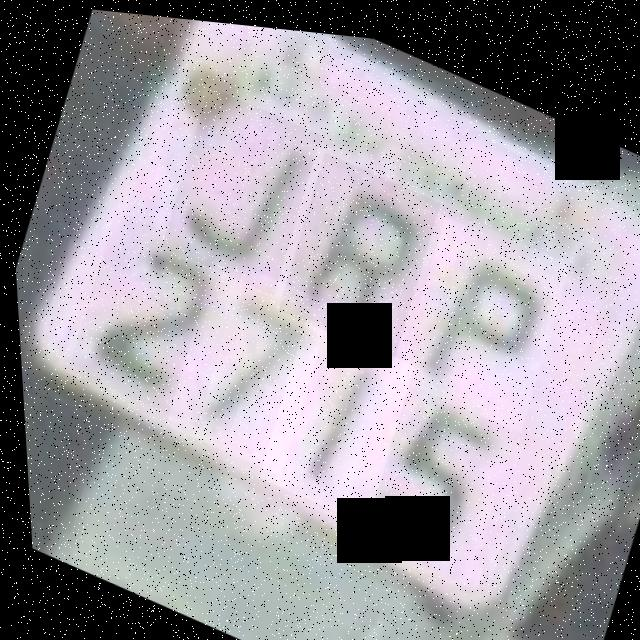1: (245, 307, 417, 522)
2: (56, 203, 249, 428)
5: (324, 345, 535, 577)
7: (151, 244, 336, 475)
J: (151, 77, 327, 294)
P: (385, 196, 576, 427)
R: (267, 140, 446, 357)
